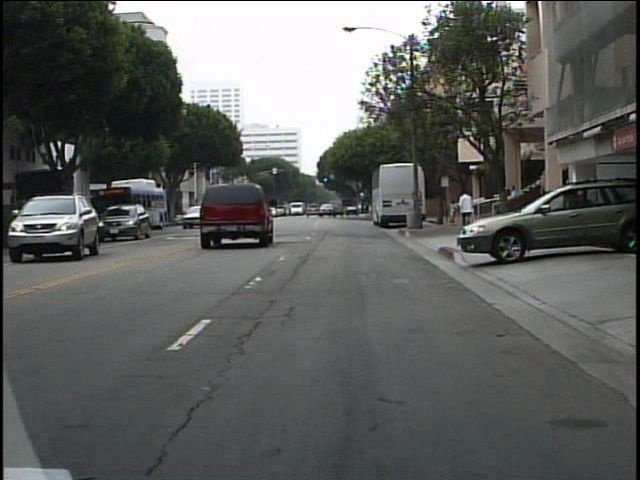person: (455, 187, 477, 238), (447, 198, 458, 225)
